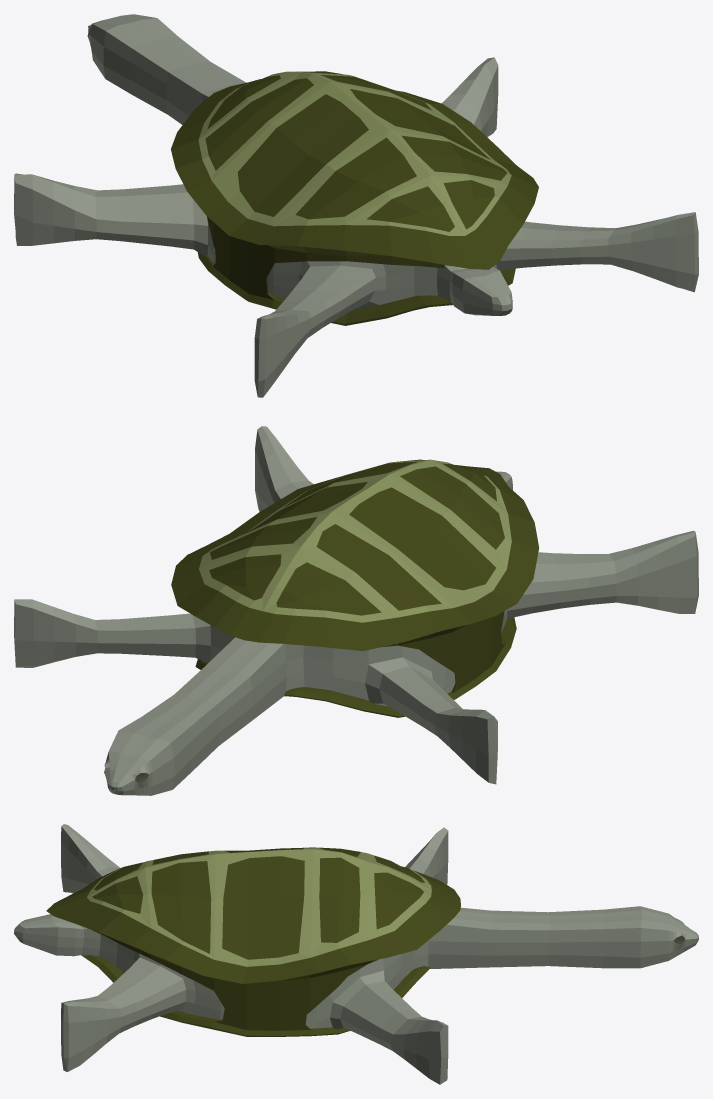
Rendered from prop_au_long_necked_turtle.glb.
3 views of the same model, one above another, from view 1: azimuth 30°, elevation 25°; view 2: azimuth 150°, elevation 25°; view 3: azimuth 270°, elevation 25° (orthographic). The views are drawn at different scales.
Parts seen in each view (by area): view 1: Plane, Plane.001, Plane.002; view 2: Plane, Plane.002, Plane.001; view 3: Plane, Plane.002, Plane.001.
Boxes of the visible parts, x1,y1,x2,y2 form: Plane: [171, 71, 538, 325]; Plane.001: [254, 212, 698, 397]; Plane.002: [14, 14, 498, 263]; Plane: [171, 459, 538, 717]; Plane.002: [14, 599, 497, 795]; Plane.001: [255, 426, 698, 633]; Plane: [46, 847, 460, 1036]; Plane.002: [305, 827, 698, 1084]; Plane.001: [14, 824, 224, 1071].
Bounding box in the file's own units: 7.07 × 2.35 × 10.22.
